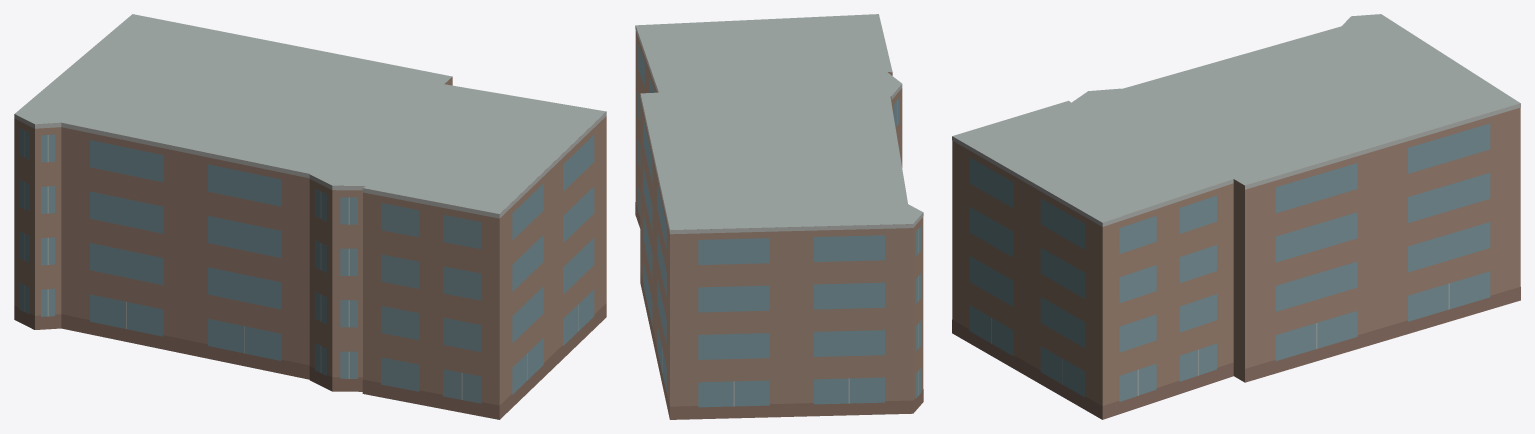
The model's file is survey-upis-32536316.glb.
3 renders of one model, left to right at view 1: azimuth 30°, elevation 25°; view 2: azimuth 150°, elevation 25°; view 3: azimuth 270°, elevation 25°, orthographic. The views are drawn at different scales.
Parts seen in each view (by area): view 1: survey-upis-32536316.tmp; view 2: survey-upis-32536316.tmp; view 3: survey-upis-32536316.tmp.
Part boxes in pixels (x1,y1,x2,y2): survey-upis-32536316.tmp: (14,14,606,419); survey-upis-32536316.tmp: (635,14,923,419); survey-upis-32536316.tmp: (952,14,1520,419).
Bounding box in the file's own units: 25.67 × 11.3 × 29.55.
